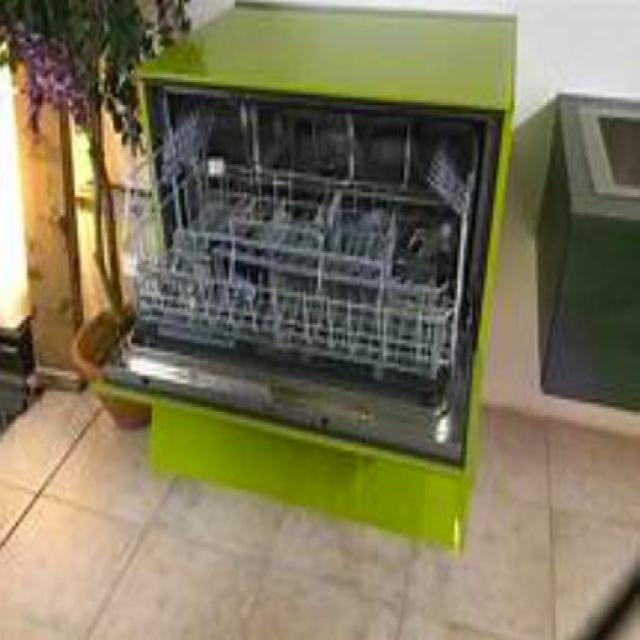dishwasher: (102, 69, 503, 550)
